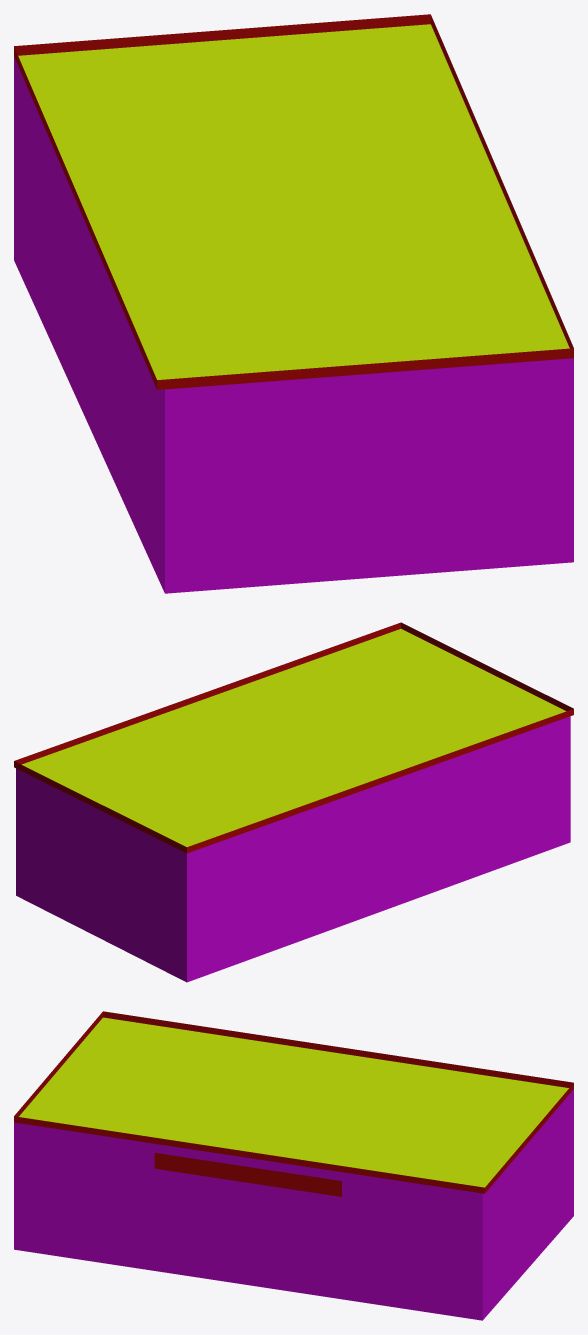
The model's file is ssv_66.glb.
The picture shows the model from 3 angles, top to bottom: view 1: azimuth 30°, elevation 25°; view 2: azimuth 150°, elevation 25°; view 3: azimuth 270°, elevation 25°; orthographic projection. The views are drawn at different scales.
Parts seen in each view (by area): view 1: ssv_66; view 2: ssv_66; view 3: ssv_66.
Part boxes in pixels (x1,y1,x2,y2): ssv_66: (14, 14, 573, 593); ssv_66: (14, 622, 573, 982); ssv_66: (14, 1011, 573, 1320).
Size of the model in its own units: 21.35 by 7.53 by 28.66.
